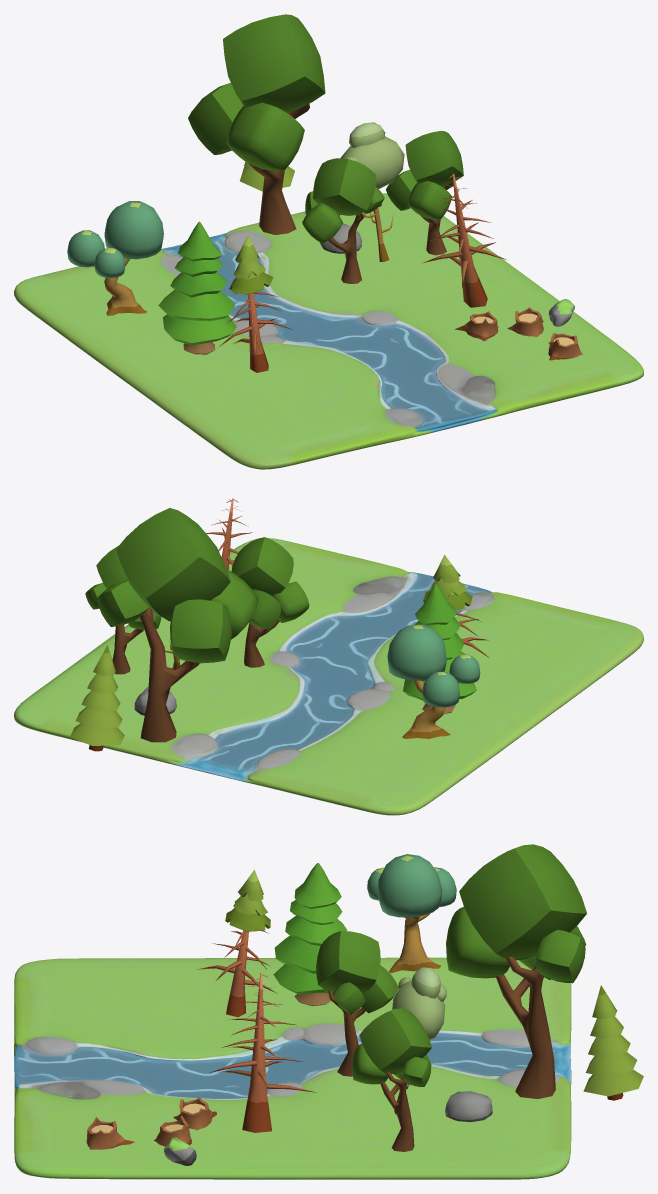
The model's file is agroforestal.glb.
3 views of the same model, one above another, from view 1: azimuth 30°, elevation 25°; view 2: azimuth 150°, elevation 25°; view 3: azimuth 270°, elevation 25° (orthographic). The views are drawn at different scales.
Parts seen in each view (by area): view 1: Mesh_0.001, Tree.019_Mat_tree_0, Circle.001_Material.015_0, Tree.012_Mat_tree_0.001, Tree.019_Mat_tree_0.002, Tree.019_Mat_tree_0.001, Tree.026_Mat_tree_0, Tree.013_Mat_tree_0, Tree.024_Mat_tree_0, Stump.006_Mat_tree_0, Stump.006_Mat_tree_0.001, Stump.006_Mat_tree_0.002; view 2: Mesh_0.001, Tree.019_Mat_tree_0, Tree.012_Mat_tree_0.001, Tree.019_Mat_tree_0.002, Tree.004_Mat_tree_0, Circle.001_Material.015_0, Tree.019_Mat_tree_0.001, Tree.026_Mat_tree_0, Tree.024_Mat_tree_0; view 3: Mesh_0.001, Tree.019_Mat_tree_0, Tree.019_Mat_tree_0.001, Tree.019_Mat_tree_0.002, Circle.001_Material.015_0, Tree.012_Mat_tree_0.001, Tree.004_Mat_tree_0, Tree.024_Mat_tree_0, Tree.026_Mat_tree_0, Tree.013_Mat_tree_0, Stone.005_Mat_tree_0, Stump.006_Mat_tree_0.001 (+3 smaller).
Boxes of the visible parts, x1,y1,x2,y2 form: Mesh_0.001: (14,193,643,469); Tree.019_Mat_tree_0: (188,14,325,234); Circle.001_Material.015_0: (158,221,236,354); Tree.012_Mat_tree_0.001: (67,201,163,315); Tree.019_Mat_tree_0.002: (302,158,384,283); Tree.019_Mat_tree_0.001: (386,130,463,255); Tree.026_Mat_tree_0: (218,234,292,372); Tree.013_Mat_tree_0: (341,122,404,261); Tree.024_Mat_tree_0: (422,173,506,307); Stump.006_Mat_tree_0: (455,311,498,341); Stump.006_Mat_tree_0.001: (548,333,582,360); Stump.006_Mat_tree_0.002: (507,307,543,336); Mesh_0.001: (14,538,643,815); Tree.019_Mat_tree_0: (97,508,258,742); Tree.012_Mat_tree_0.001: (387,624,480,738); Tree.019_Mat_tree_0.002: (231,537,309,667); Tree.004_Mat_tree_0: (70,645,124,751); Circle.001_Material.015_0: (403,584,476,714); Tree.019_Mat_tree_0.001: (85,545,161,674); Tree.026_Mat_tree_0: (423,554,488,657); Tree.024_Mat_tree_0: (206,498,252,569); Mesh_0.001: (14,957,571,1179); Tree.019_Mat_tree_0: (446,844,586,1098); Tree.019_Mat_tree_0.001: (352,1008,431,1151); Tree.019_Mat_tree_0.002: (316,931,398,1076); Circle.001_Material.015_0: (273,863,347,1006); Tree.012_Mat_tree_0.001: (367,854,456,973); Tree.004_Mat_tree_0: (583,985,643,1100); Tree.024_Mat_tree_0: (209,973,316,1132); Tree.026_Mat_tree_0: (196,869,277,1017); Tree.013_Mat_tree_0: (392,967,446,1114); Stone.005_Mat_tree_0: (445,1091,492,1121); Stump.006_Mat_tree_0.001: (86,1117,134,1149).
Bounding box in the file's own units: 25.84 × 14.19 × 31.6.
8 materials, 8 textured.
